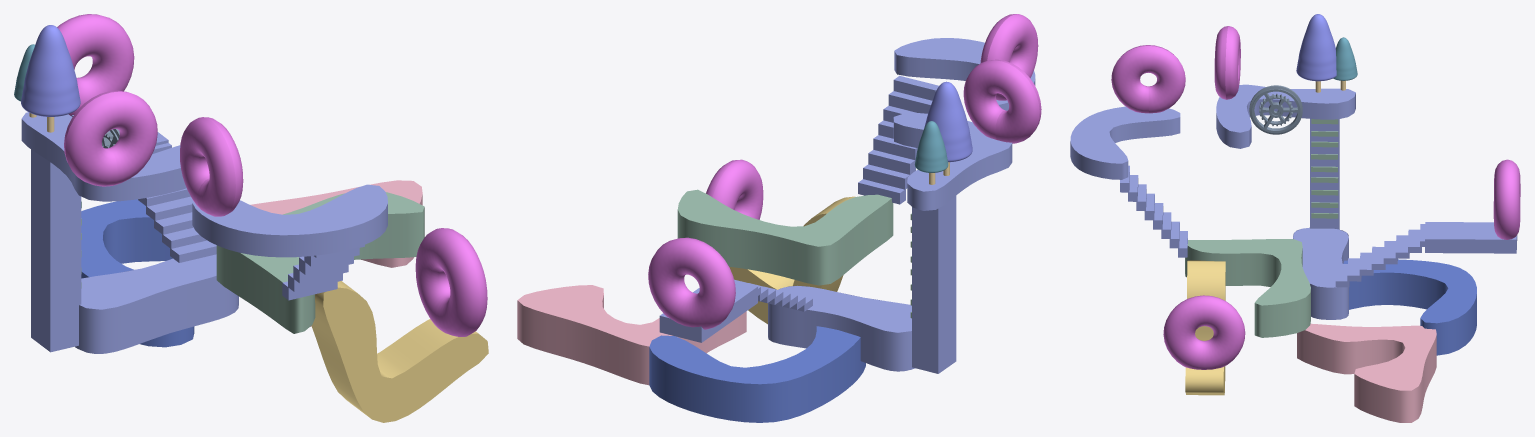
The picture shows the model from 3 angles, left to right: view 1: azimuth 30°, elevation 25°; view 2: azimuth 150°, elevation 25°; view 3: azimuth 270°, elevation 25°; orthographic projection. The views are drawn at different scales.
Parts seen in each view (by area): view 1: 立方体.003, 物件_43.002, 物件_44.002, 物件_60.001, 物件_38.002, 物件_39.002; view 2: 立方体.003, 物件_60.001, 物件_44.002, 物件_38.002, 物件_39.002, 物件_43.002; view 3: 立方体.003, 物件_44.002, 物件_39.002, 物件_60.001, 物件_43.002, 物件_38.002, gear38_gears_0.002.
Boxes of the visible parts, x1,y1,x2,y2 form: 立方体.003: (14,25,387,352); 物件_43.002: (311,228,488,422); 物件_44.002: (57,14,238,353); 物件_60.001: (216,192,424,333); 物件_38.002: (81,199,194,347); 物件_39.002: (250,180,422,326); 立方体.003: (893,14,1041,373); 物件_60.001: (677,75,938,285); 物件_44.002: (648,237,914,371); 物件_38.002: (649,326,865,422); 物件_39.002: (517,285,746,385); 物件_43.002: (706,159,855,324); 立方体.003: (1070,14,1357,229); 物件_44.002: (1293,159,1520,319); 物件_39.002: (1297,323,1436,422); 物件_60.001: (1120,165,1310,337); 物件_43.002: (1163,260,1245,395); 物件_38.002: (1343,259,1476,355); gear38_gears_0.002: (1249,85,1302,134).
Size of the model in its own units: 2821 by 2232 by 3181.
